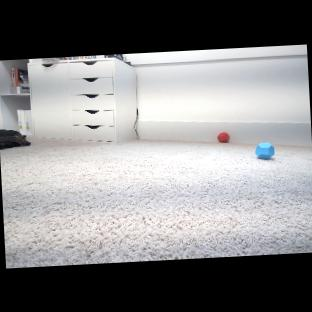V5_BLUE: (254, 142, 275, 161)
V5_RED: (217, 132, 229, 143)
